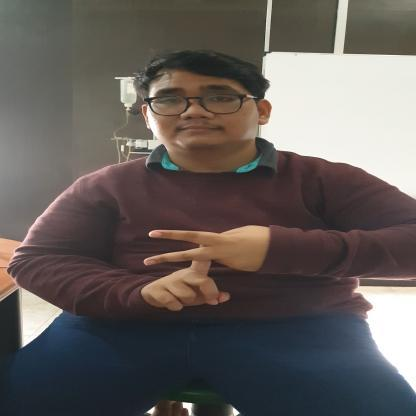F: (138, 224, 256, 313)
